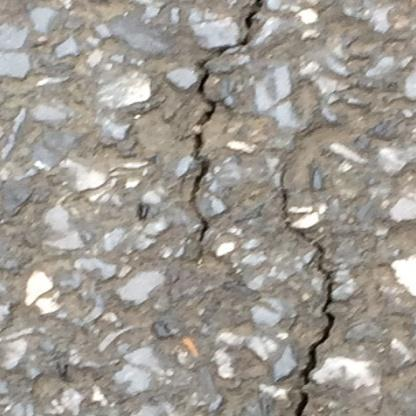Cracks: (187, 0, 274, 246), (281, 218, 342, 416), (278, 167, 293, 216)
